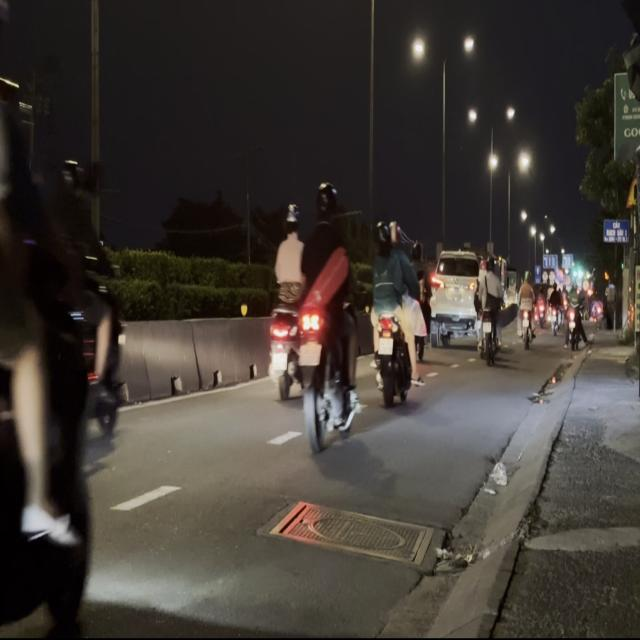helmet: (314, 179, 339, 225)
licenseplate: (0, 0, 131, 637), (294, 176, 362, 459)
nohelmet: (298, 342, 320, 364)
